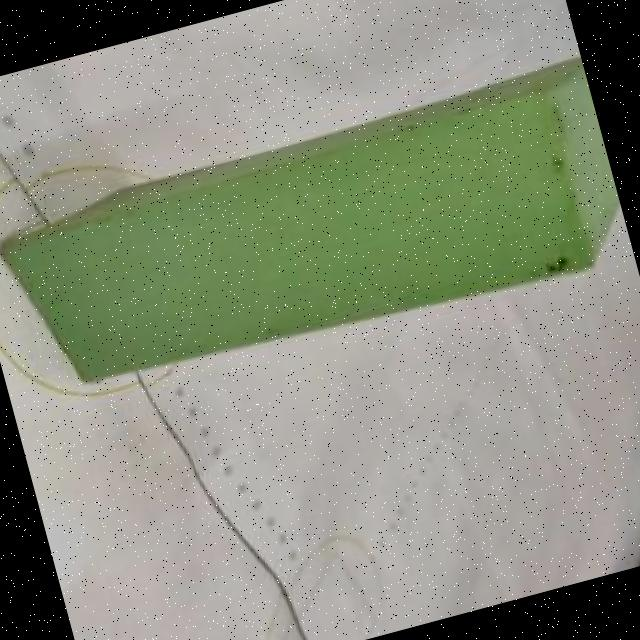greenbox: (0, 50, 634, 413)
